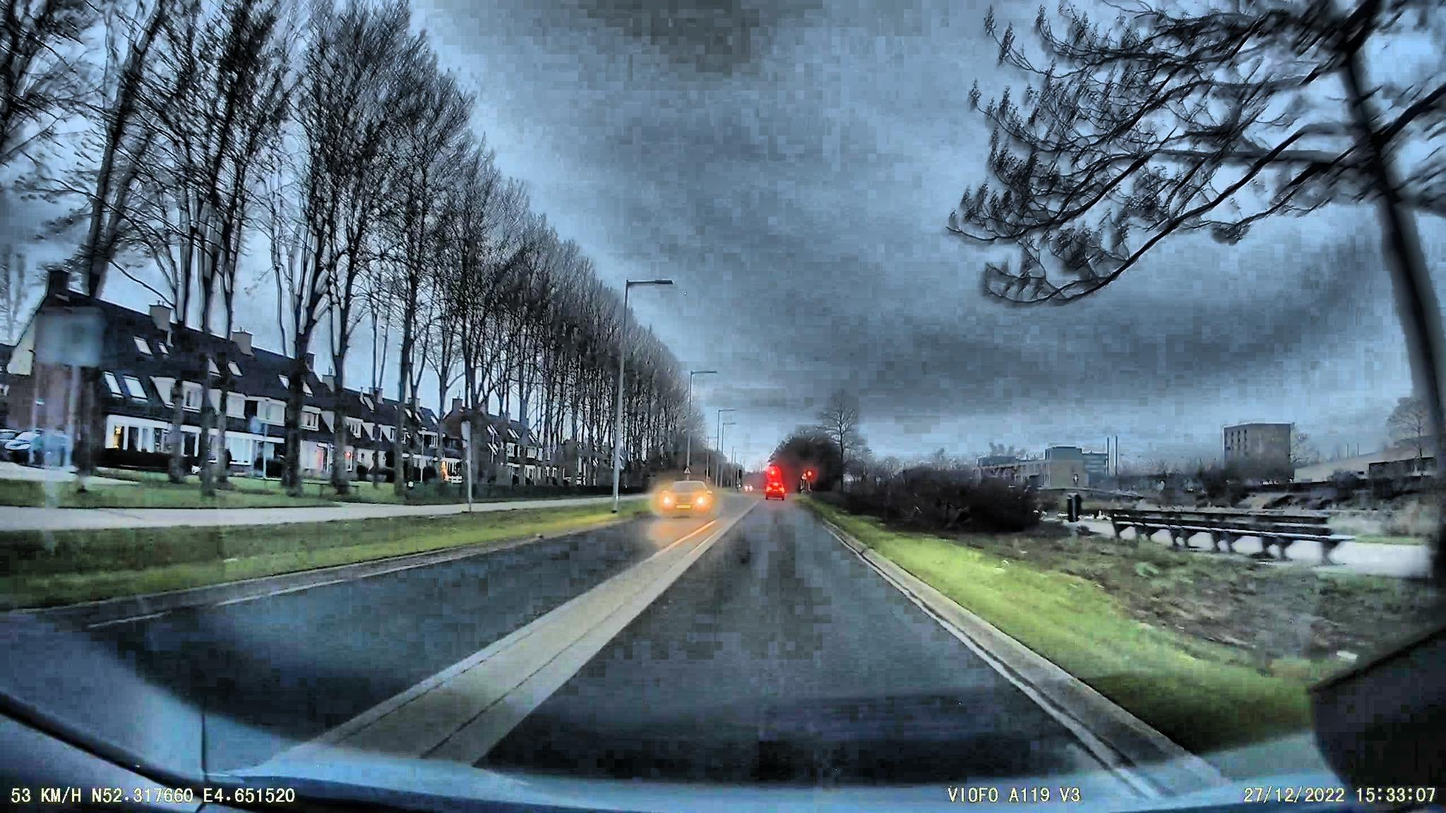Roads: (0, 502, 1298, 813)
